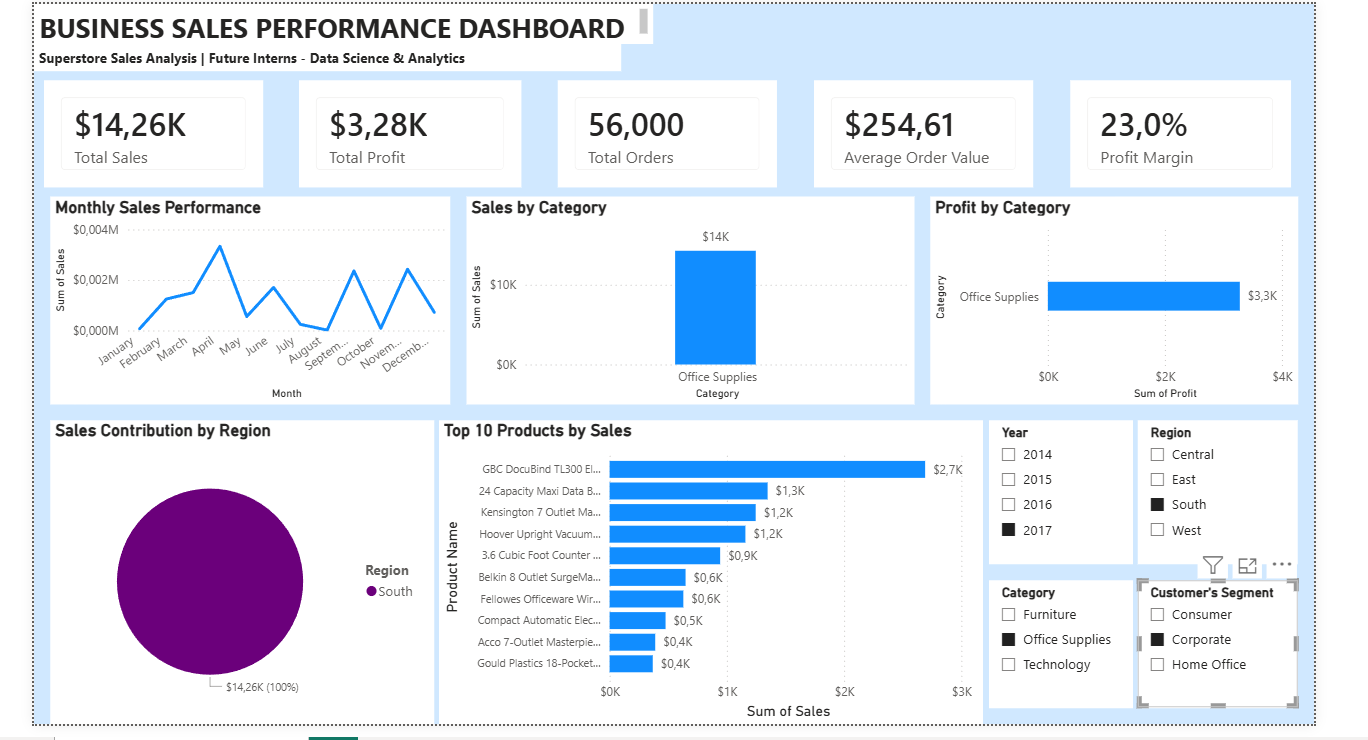

Layout of this report page (visuals, bound fields, positions):
{"tool":"powerbi","page":{"name":"Sales Performance Dashboard","canvas":[1280,720],"ordinal":0},"visuals":[{"type":"textbox","box":[0,0,618.9,39.8],"z":0},{"type":"textbox","box":[0,39.8,587.3,27.4],"z":1000},{"type":"lineChart","title":"Monthly Sales Performance","fields":{"Y":["Sum(Sample - Superstore.Sales)"],"Category":["Sample - Superstore.Order Date.Variation.Date Hierarchy.Month"]},"box":[16,192,400,208],"z":2000},{"type":"clusteredColumnChart","title":" Sales by Category","fields":{"Category":["Sample - Superstore.Category"],"Y":["Sum(Sample - Superstore.Sales)"]},"box":[432,192,448,208],"z":3000},{"type":"pieChart","title":" Sales Contribution by Region","fields":{"Category":["Sample - Superstore.Region"],"Y":["Sum(Sample - Superstore.Sales)"]},"box":[16,416,384,304],"z":4000},{"type":"clusteredBarChart","title":"Top 10 Products by Sales","fields":{"Category":["Sample - Superstore.Product Name"],"Y":["Sum(Sample - Superstore.Sales)"]},"box":[405.3,416,544,304],"z":5000},{"type":"slicer","fields":{"Values":["Sample - Superstore.Order Date.Variation.Date Hierarchy.Year"]},"box":[954.7,416,144,144],"z":6000},{"type":"slicer","fields":{"Values":["Sample - Superstore.Region"]},"box":[1104,416,160,144],"z":7000},{"type":"slicer","fields":{"Values":["Sample - Superstore.Category"]},"box":[954.7,576,144,128],"z":8000},{"type":"slicer","fields":{"Values":["Sample - Superstore.Segment"]},"box":[1104,576,160,128],"z":9000},{"type":"cardVisual","title":"Sum Of Sales","fields":{"Data":["Sample - Superstore.Total Sales"]},"box":[9.6,76.8,219.6,107],"z":10000},{"type":"cardVisual","title":"Sum Of Profit","fields":{"Data":["Sample - Superstore.Total Profit"]},"box":[265.5,76.8,222.3,107],"z":11000},{"type":"cardVisual","title":"Total Orders","fields":{"Data":["Sample - Superstore.Total Orders"]},"box":[524.2,76.8,219.6,107],"z":12000},{"type":"cardVisual","title":"Average Order Value","fields":{"Data":["Sample - Superstore.Average Order Value"]},"box":[780.1,76.8,219.6,107],"z":13000},{"type":"cardVisual","title":"Profit Margin","fields":{"Data":["Sample - Superstore.Profit Margin"]},"box":[1036,76.8,220.9,107],"z":14000},{"type":"clusteredBarChart","title":" Profit by Category","fields":{"Category":["Sample - Superstore.Category"],"Y":["Sum(Sample - Superstore.Profit)"]},"box":[896,192,368,208],"z":15000}]}

Visuals, with their boxes on the page's 1280x720 design canvas (x1, y1, x2, y2). These are canvas units, not pixel positions in the 1368x740 screenshot, which may show the page scaled, cropped or inside an application window:
textbox: [0,0,619,40]
textbox: [0,40,587,67]
"Monthly Sales Performance" lineChart: [16,192,416,400]
" Sales by Category" clusteredColumnChart: [432,192,880,400]
" Sales Contribution by Region" pieChart: [16,416,400,720]
"Top 10 Products by Sales" clusteredBarChart: [405,416,949,720]
slicer - Sample - Superstore.Order Date.Variation.Date Hierarchy.Year: [955,416,1099,560]
slicer - Sample - Superstore.Region: [1104,416,1264,560]
slicer - Sample - Superstore.Category: [955,576,1099,704]
slicer - Sample - Superstore.Segment: [1104,576,1264,704]
"Sum Of Sales" cardVisual: [10,77,229,184]
"Sum Of Profit" cardVisual: [266,77,488,184]
"Total Orders" cardVisual: [524,77,744,184]
"Average Order Value" cardVisual: [780,77,1000,184]
"Profit Margin" cardVisual: [1036,77,1257,184]
" Profit by Category" clusteredBarChart: [896,192,1264,400]
